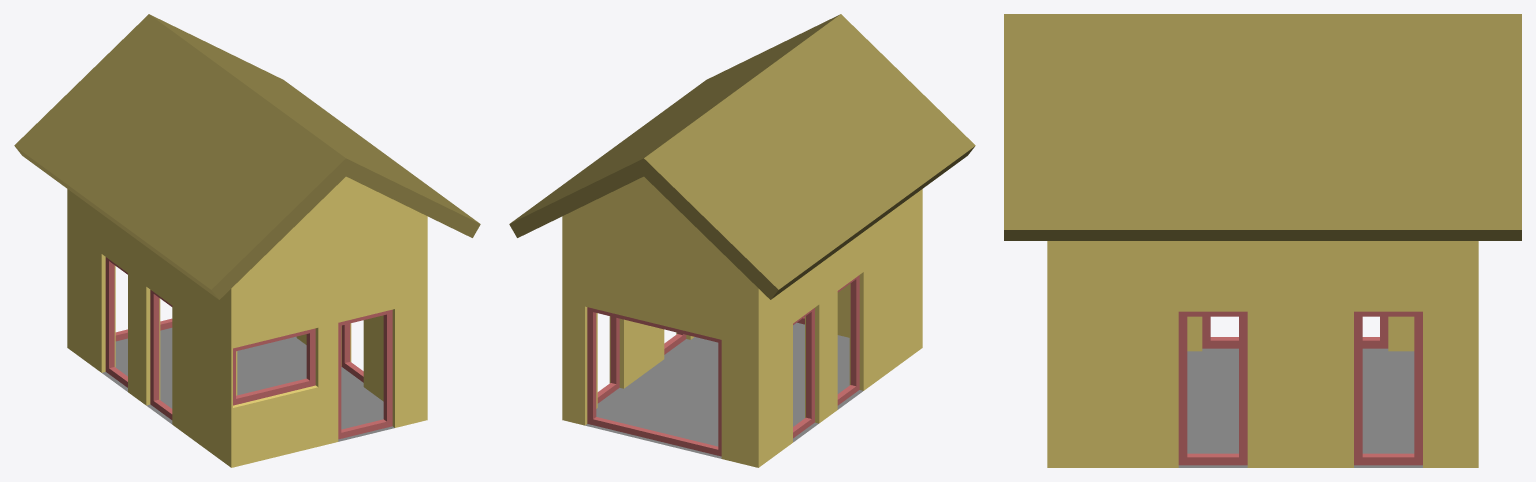
The model's file is result.glb.
3 renders of one model, left to right at view 1: azimuth 30°, elevation 25°; view 2: azimuth 150°, elevation 25°; view 3: azimuth 270°, elevation 25°, orthographic. The views are drawn at different scales.
Visible parts, largest first — view 1: 7b1f4180-2f37-41c5-9be3-e2fbb35355a0__undefined (×2), 28592b36-6273-413f-85be-ed6affc0f06a__undefined, 3e5cf287-9cf5-4916-a297-d2f0106f5a4c__Plane_8, 5d46ed6f-0432-48bf-9c1e-5dafa0f1ccd3__Box, e6d3a876-529c-40d7-8776-f92f677cf67c__Box_3, 90c59db9-958e-42ff-aa0a-109048275aa6__Box_15, 9da762b7-b3a5-4337-a783-dc549f03d449__Box_12, 61dc9415-c033-4993-958f-867ba6e85b17__Box_18; view 2: 7b1f4180-2f37-41c5-9be3-e2fbb35355a0__undefined (×2), 28592b36-6273-413f-85be-ed6affc0f06a__undefined, 3e5cf287-9cf5-4916-a297-d2f0106f5a4c__Plane_8, a420e52b-0559-4f93-8e50-2eb308707256__Box_9, 9da762b7-b3a5-4337-a783-dc549f03d449__Box_12, 90c59db9-958e-42ff-aa0a-109048275aa6__Box_15, 449a65ce-1912-490a-a220-1410ab5c791b__Box_21; view 3: 7b1f4180-2f37-41c5-9be3-e2fbb35355a0__undefined, 28592b36-6273-413f-85be-ed6affc0f06a__undefined, 3e5cf287-9cf5-4916-a297-d2f0106f5a4c__Plane_8, 61dc9415-c033-4993-958f-867ba6e85b17__Box_18, 449a65ce-1912-490a-a220-1410ab5c791b__Box_21, 9da762b7-b3a5-4337-a783-dc549f03d449__Box_12.
Boxes of the visible parts, left/top/right/bottom form: 7b1f4180-2f37-41c5-9be3-e2fbb35355a0__undefined (×2): left=14, top=14, right=480, bottom=299; 28592b36-6273-413f-85be-ed6affc0f06a__undefined: left=67, top=176, right=427, bottom=467; 3e5cf287-9cf5-4916-a297-d2f0106f5a4c__Plane_8: left=102, top=328, right=394, bottom=441; 5d46ed6f-0432-48bf-9c1e-5dafa0f1ccd3__Box: left=338, top=309, right=392, bottom=439; e6d3a876-529c-40d7-8776-f92f677cf67c__Box_3: left=233, top=328, right=315, bottom=405; 90c59db9-958e-42ff-aa0a-109048275aa6__Box_15: left=105, top=257, right=127, bottom=387; 9da762b7-b3a5-4337-a783-dc549f03d449__Box_12: left=150, top=290, right=172, bottom=419; 61dc9415-c033-4993-958f-867ba6e85b17__Box_18: left=341, top=323, right=363, bottom=382; 7b1f4180-2f37-41c5-9be3-e2fbb35355a0__undefined (×2): left=509, top=14, right=975, bottom=299; 28592b36-6273-413f-85be-ed6affc0f06a__undefined: left=562, top=176, right=922, bottom=467; 3e5cf287-9cf5-4916-a297-d2f0106f5a4c__Plane_8: left=585, top=322, right=862, bottom=458; a420e52b-0559-4f93-8e50-2eb308707256__Box_9: left=587, top=307, right=721, bottom=456; 9da762b7-b3a5-4337-a783-dc549f03d449__Box_12: left=837, top=275, right=859, bottom=405; 90c59db9-958e-42ff-aa0a-109048275aa6__Box_15: left=793, top=308, right=814, bottom=438; 449a65ce-1912-490a-a220-1410ab5c791b__Box_21: left=597, top=316, right=619, bottom=403; 7b1f4180-2f37-41c5-9be3-e2fbb35355a0__undefined: left=1004, top=14, right=1521, bottom=240; 28592b36-6273-413f-85be-ed6affc0f06a__undefined: left=1047, top=241, right=1478, bottom=467; 3e5cf287-9cf5-4916-a297-d2f0106f5a4c__Plane_8: left=1178, top=348, right=1422, bottom=467; 61dc9415-c033-4993-958f-867ba6e85b17__Box_18: left=1178, top=311, right=1247, bottom=465; 449a65ce-1912-490a-a220-1410ab5c791b__Box_21: left=1354, top=311, right=1422, bottom=465; 9da762b7-b3a5-4337-a783-dc549f03d449__Box_12: left=1202, top=316, right=1238, bottom=348.
Bounding box in the file's own units: 474 × 500 × 600.
